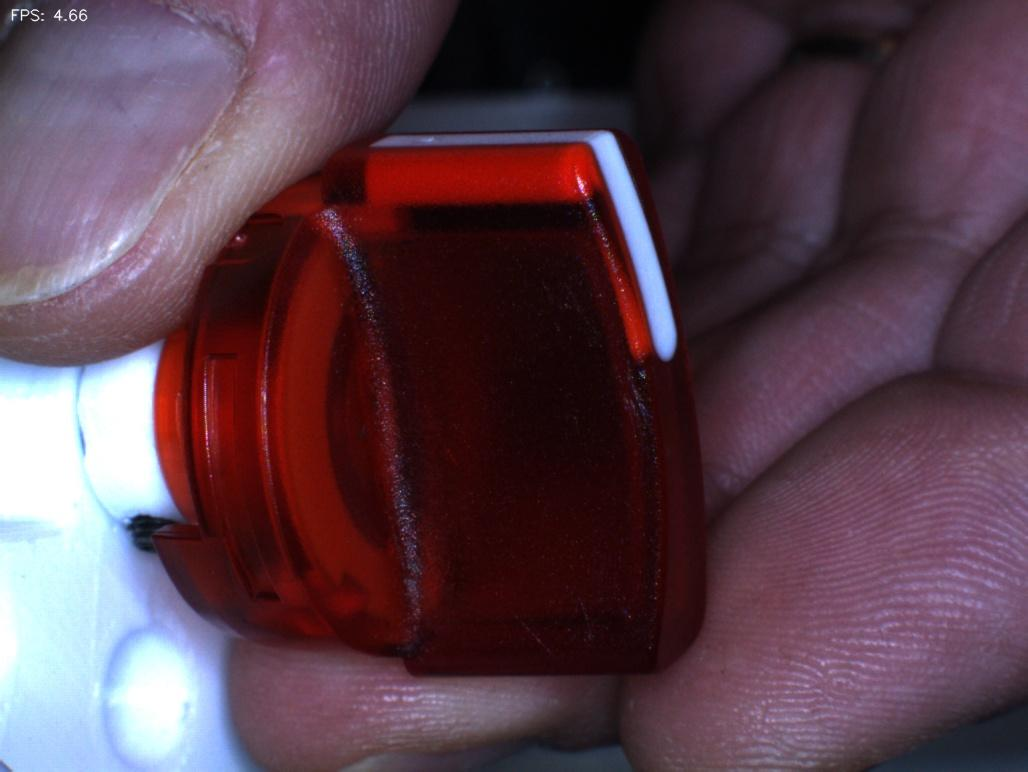Givrage: (509, 584, 644, 659)
